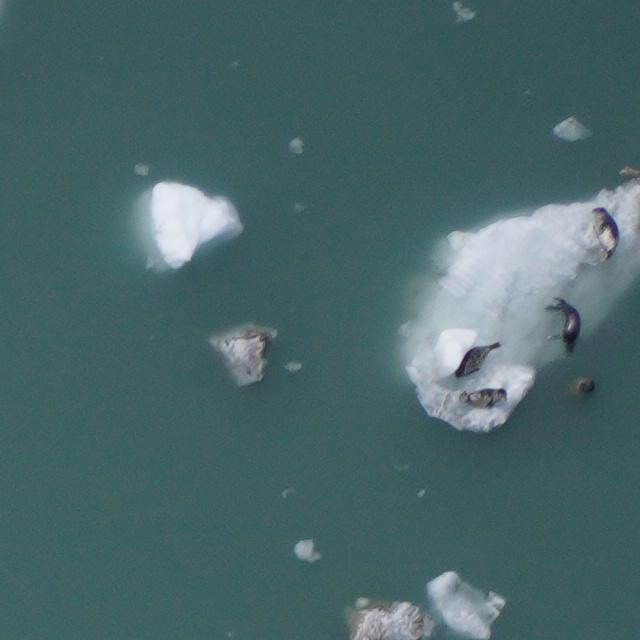seal: (530, 292, 598, 360), (450, 328, 505, 388), (591, 207, 619, 271), (457, 384, 511, 413), (567, 368, 601, 402)
